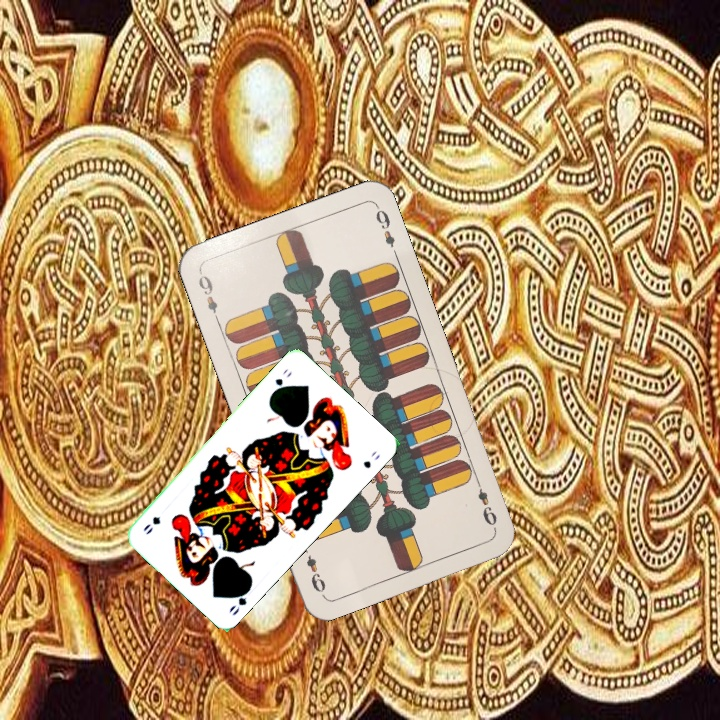E9: (194, 268, 222, 325), (472, 475, 500, 532)
GO: (225, 582, 254, 619), (267, 365, 295, 397)
